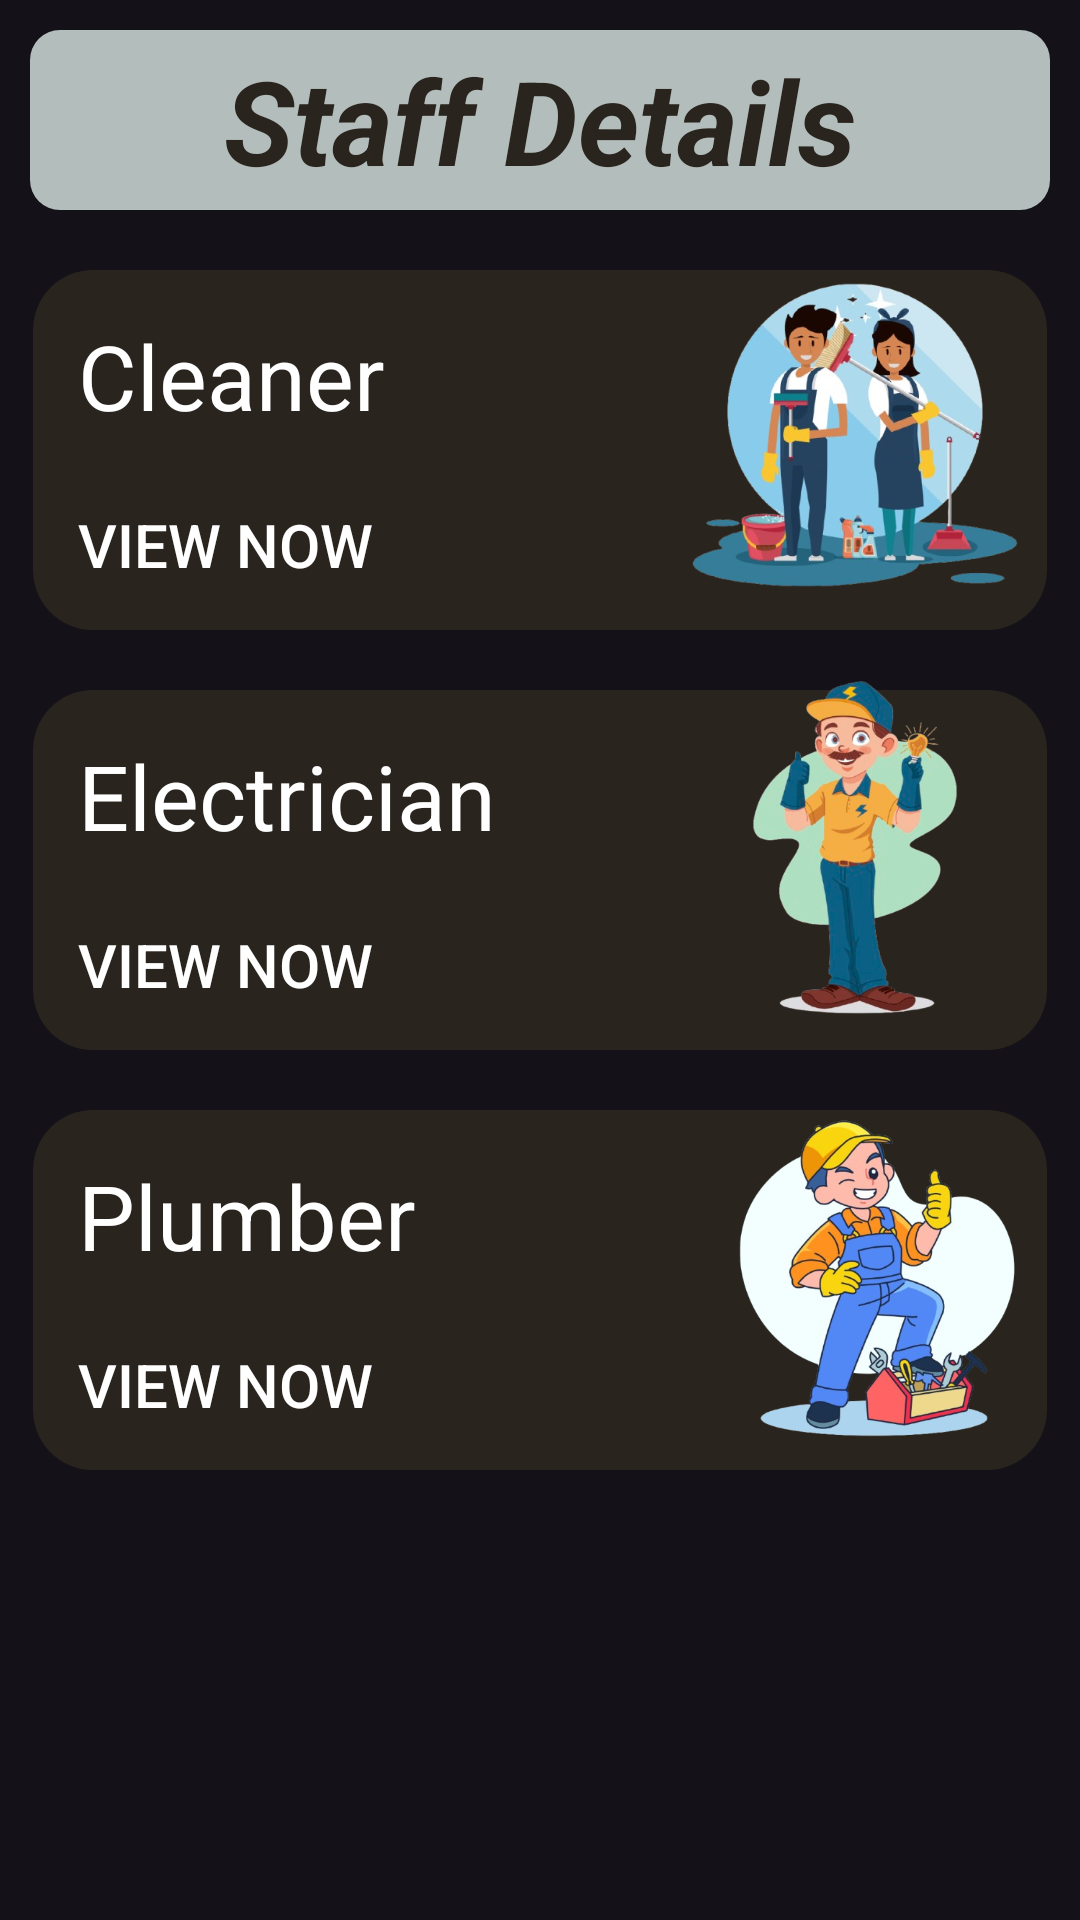

Icon click points for this 1080w x 1920h phone screenshot, format (x=x, y=y):
Cleaner: (x=855, y=435)
Plumber: (x=877, y=1278)
